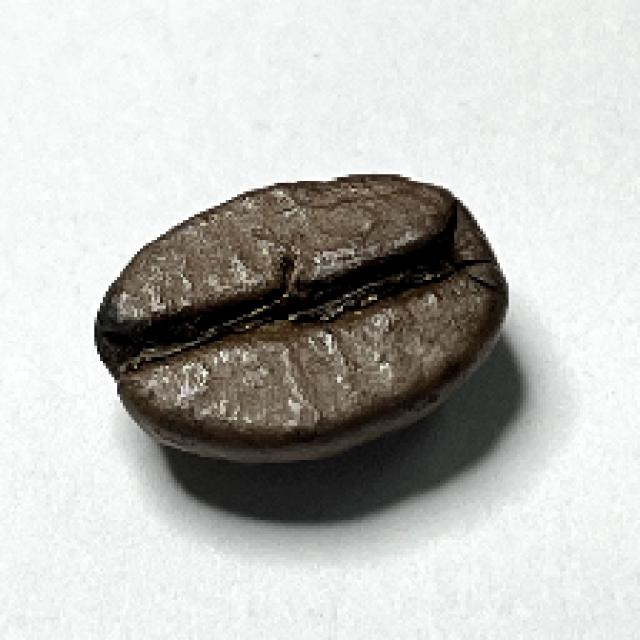bean: (95, 173, 512, 465)
